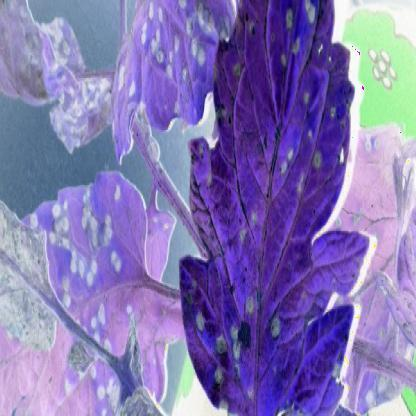Tomato Septoria leaf spot: (178, 3, 370, 414), (1, 166, 172, 414), (5, 13, 113, 178)
